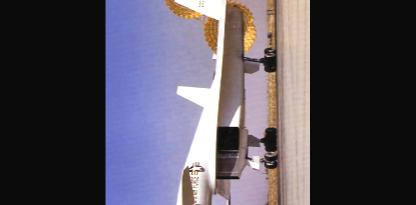U2: (172, 0, 279, 203)
